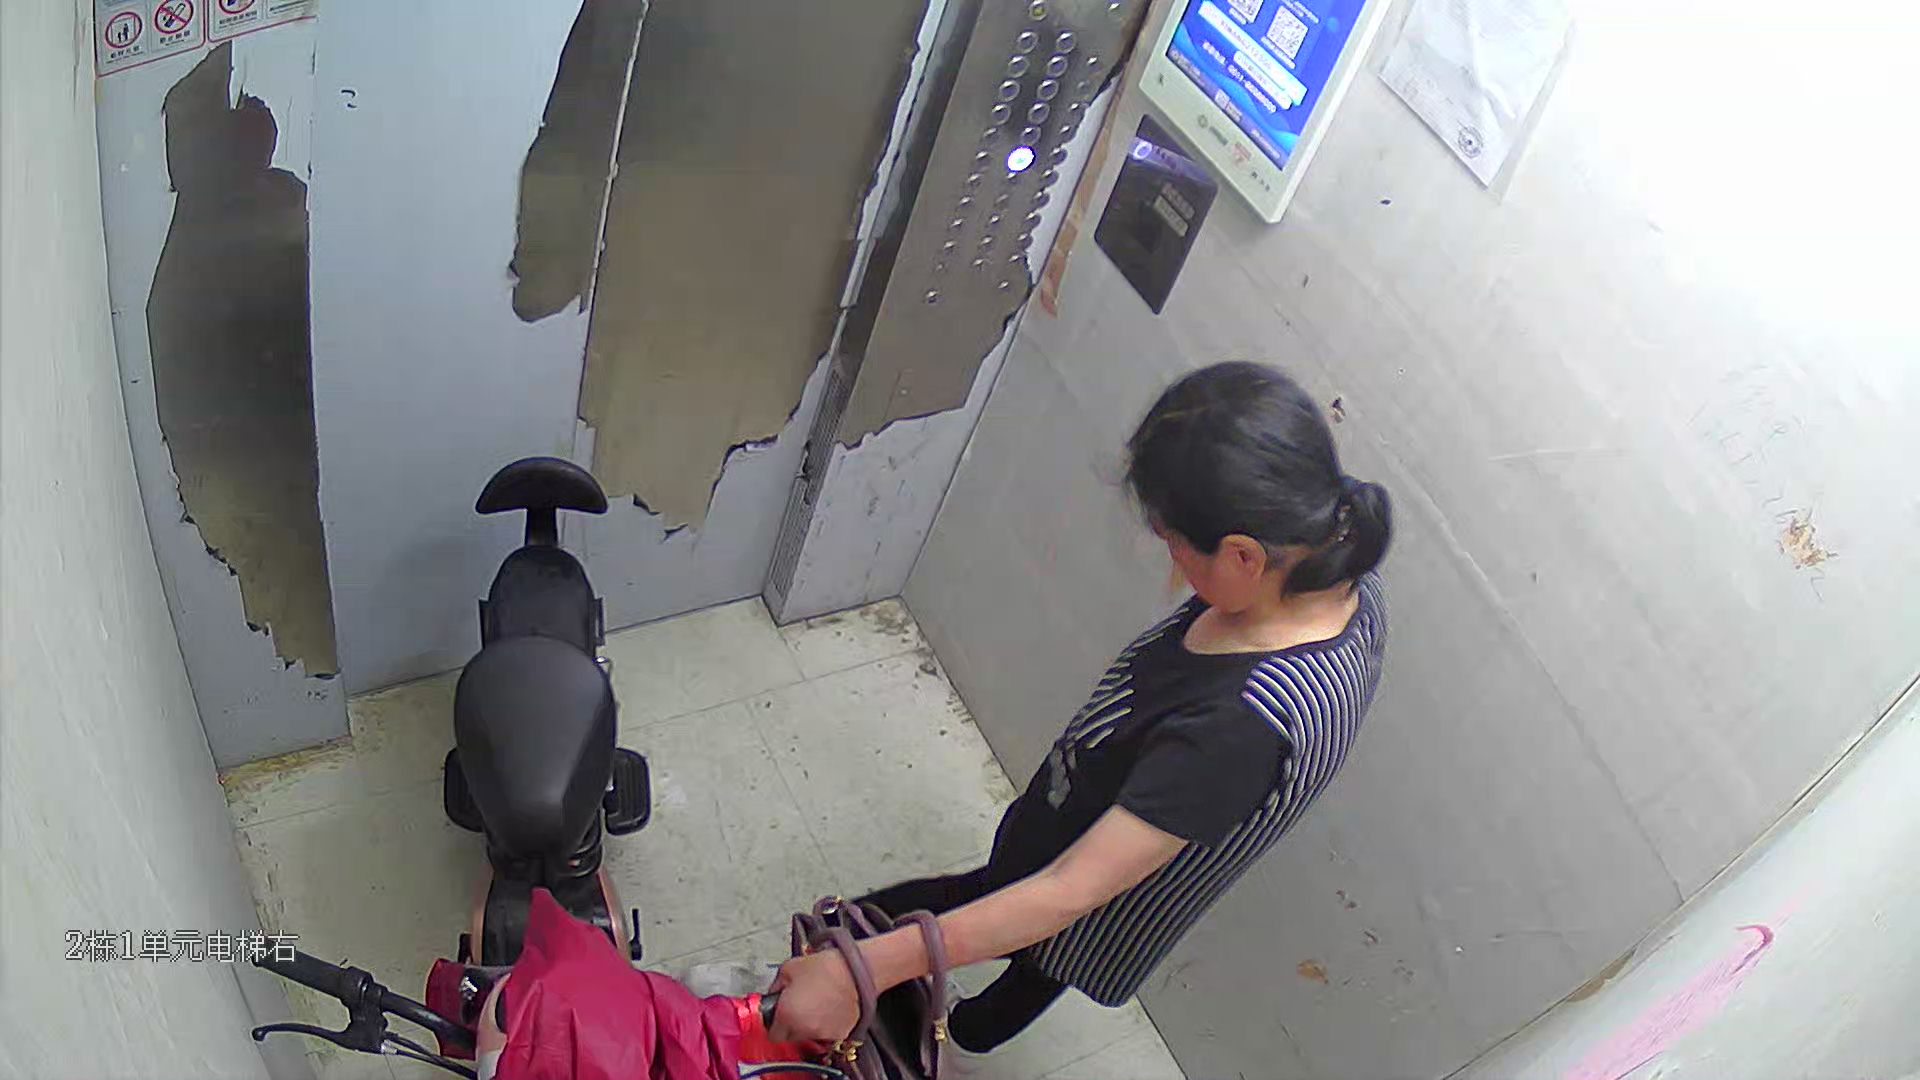Electric-bicycle: (248, 459, 794, 1080)
